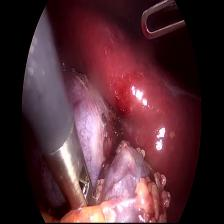Grasper: (41, 141, 102, 216), (140, 1, 192, 43)
